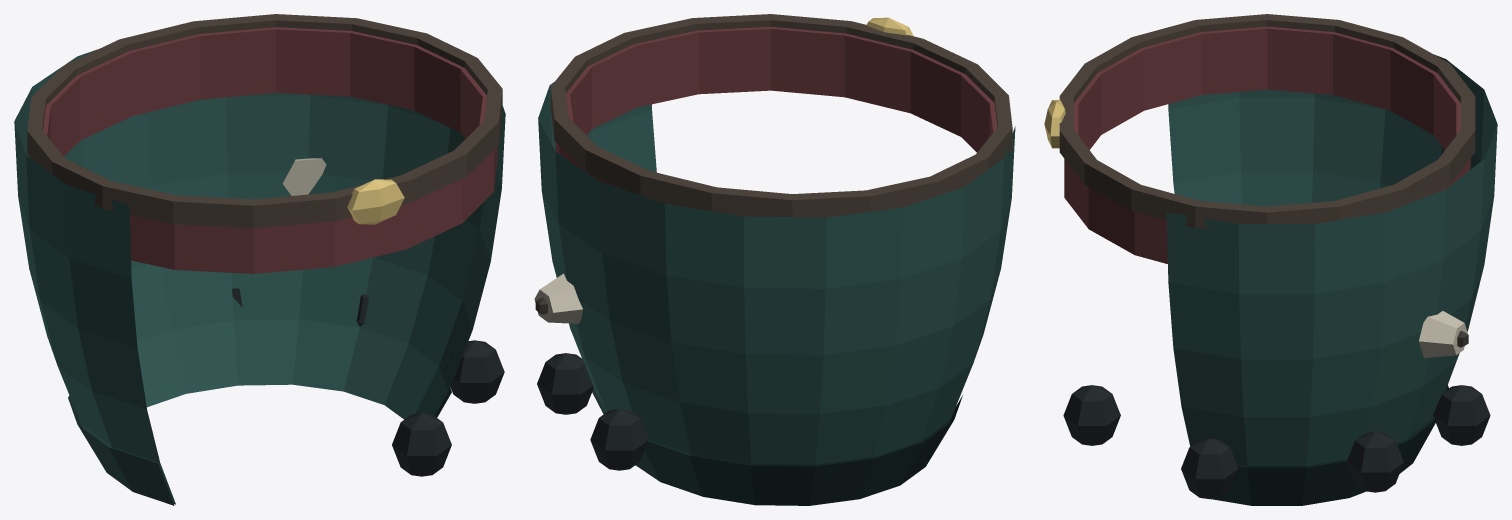
The model's file is smuggler_captain_tails.glb.
The picture shows the model from 3 angles, left to right: view 1: azimuth 30°, elevation 25°; view 2: azimuth 150°, elevation 25°; view 3: azimuth 270°, elevation 25°; orthographic projection. The views are drawn at different scales.
Visible parts, largest first — view 1: smuggler_captain_tails; view 2: smuggler_captain_tails; view 3: smuggler_captain_tails.
Boxes of the visible parts, left/top/right/bottom form: smuggler_captain_tails: left=14, top=14, right=505, bottom=505; smuggler_captain_tails: left=534, top=14, right=1015, bottom=505; smuggler_captain_tails: left=1044, top=14, right=1497, bottom=505.
Size of the model in its own units: 0.9848 by 0.7777 by 0.945.
